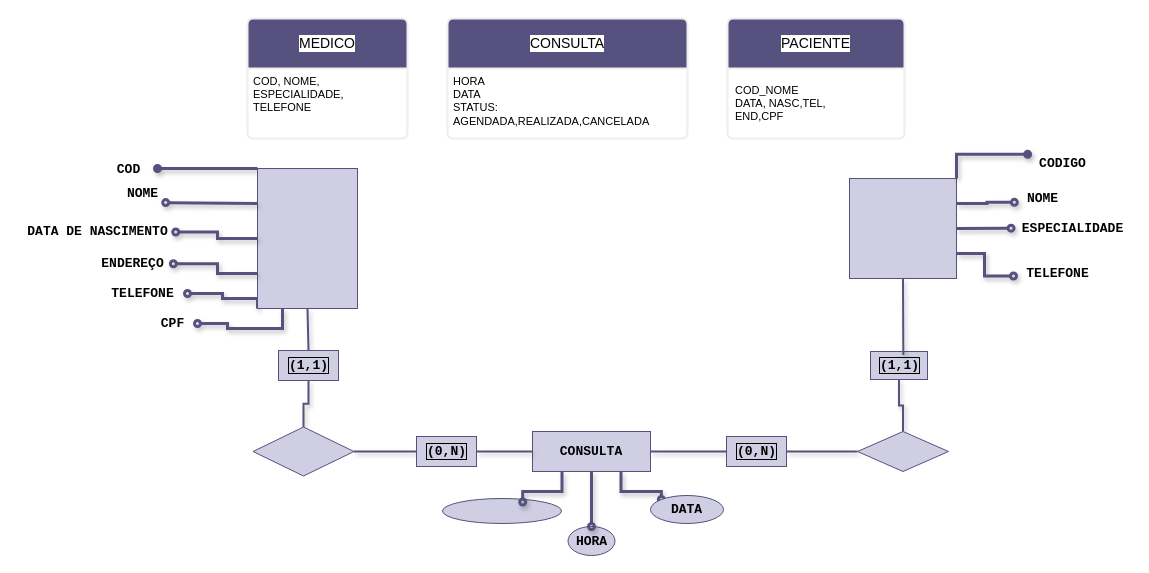
Some shapes in this 1149 by 573 pixel diagram are drawn without their labels. Here are the shapes that lost their labels. From the top down, the centre of each, then its label:
At pixel 307 238: "PACIENTES".
At pixel 902 228: "MÉDICOS".
At pixel 303 451: "TEM contem".
At pixel 902 451: "REALIZA".
At pixel 502 511: "STATUS".
